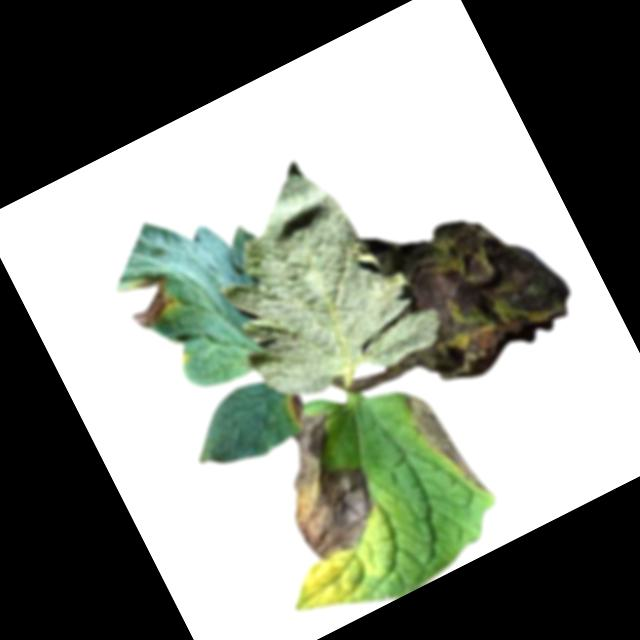Early_blight: (332, 177, 587, 413), (253, 406, 385, 565), (399, 379, 487, 503), (116, 268, 181, 331), (283, 389, 311, 421)
healthy: (177, 133, 450, 422)
